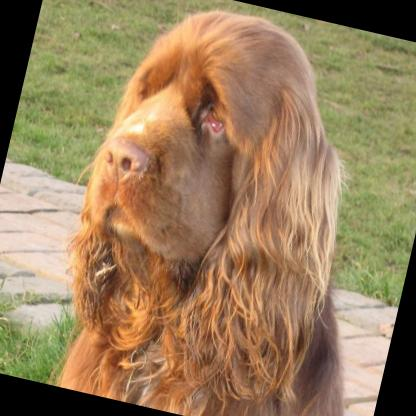Sussex_spaniel: (40, 0, 416, 416)
